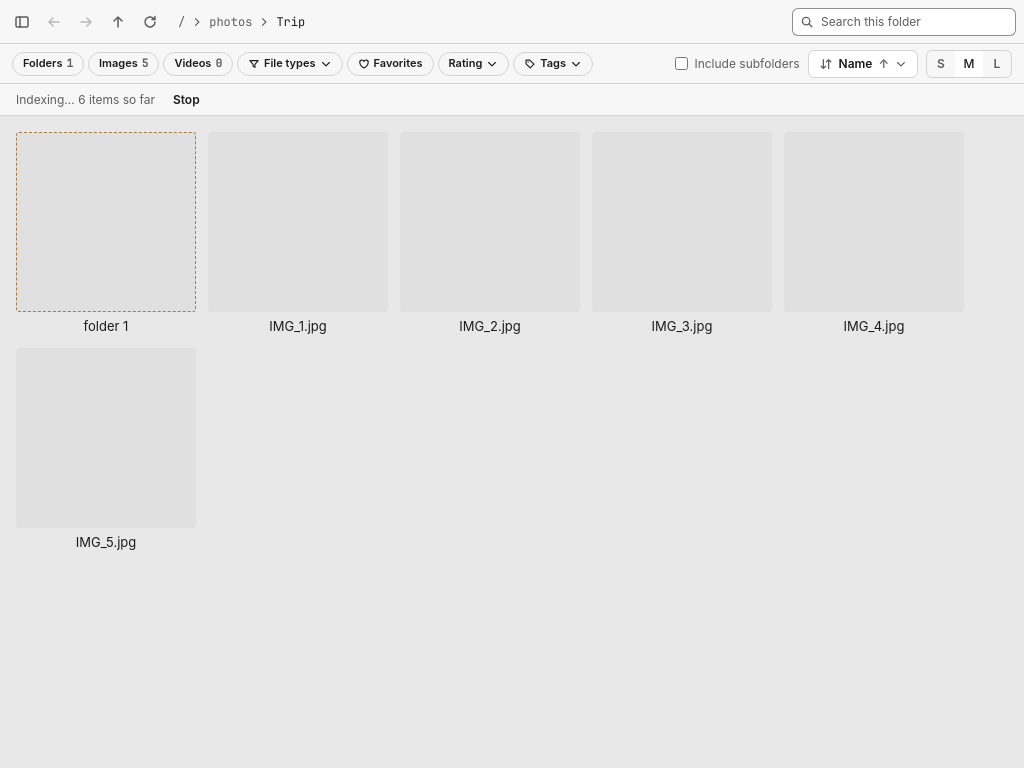
clipboard and delete › copies and pastes with descriptors, never id lists
Expected: the text "IMG_2.jpg" is shown, [459,318,521,334]
Click the cell "IMG_2.jpg" at (490, 240), box [400,132,580,348]
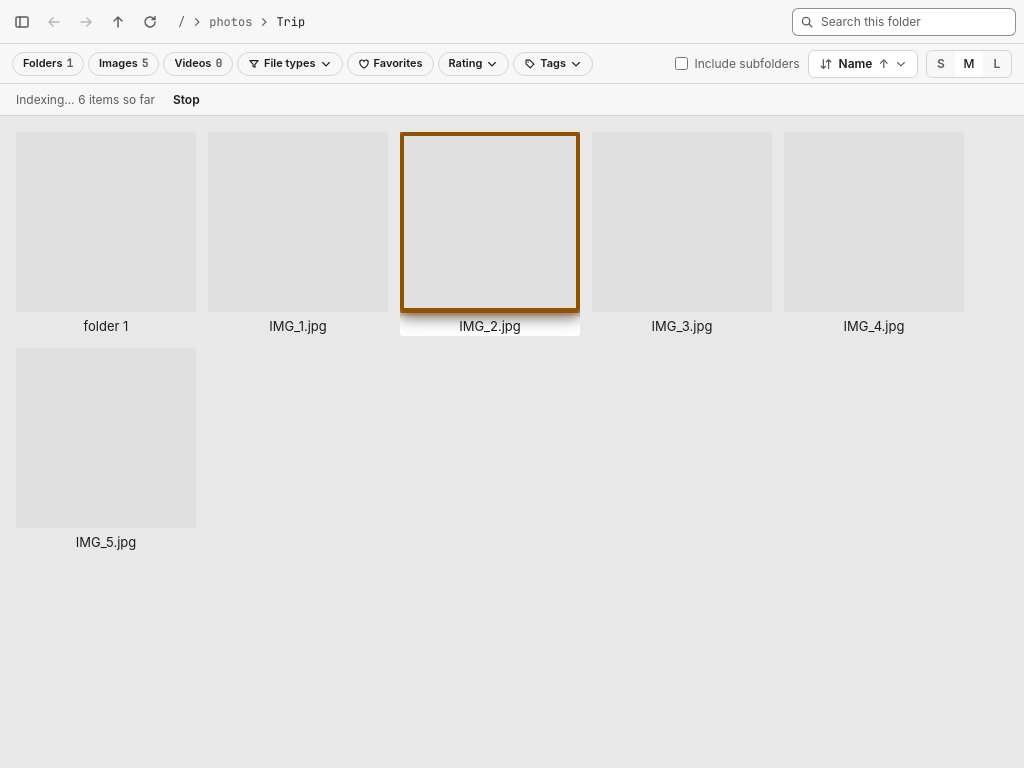
Type keys "{Control>}c{/Control}"
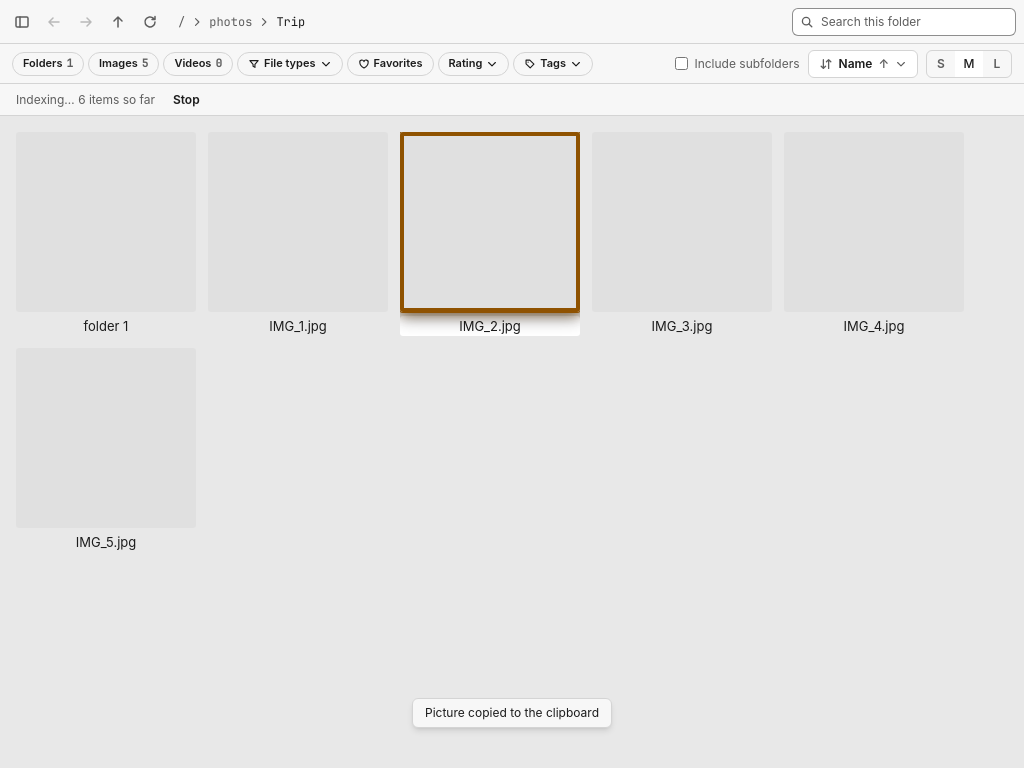
Type keys "{Control>}v{/Control}"
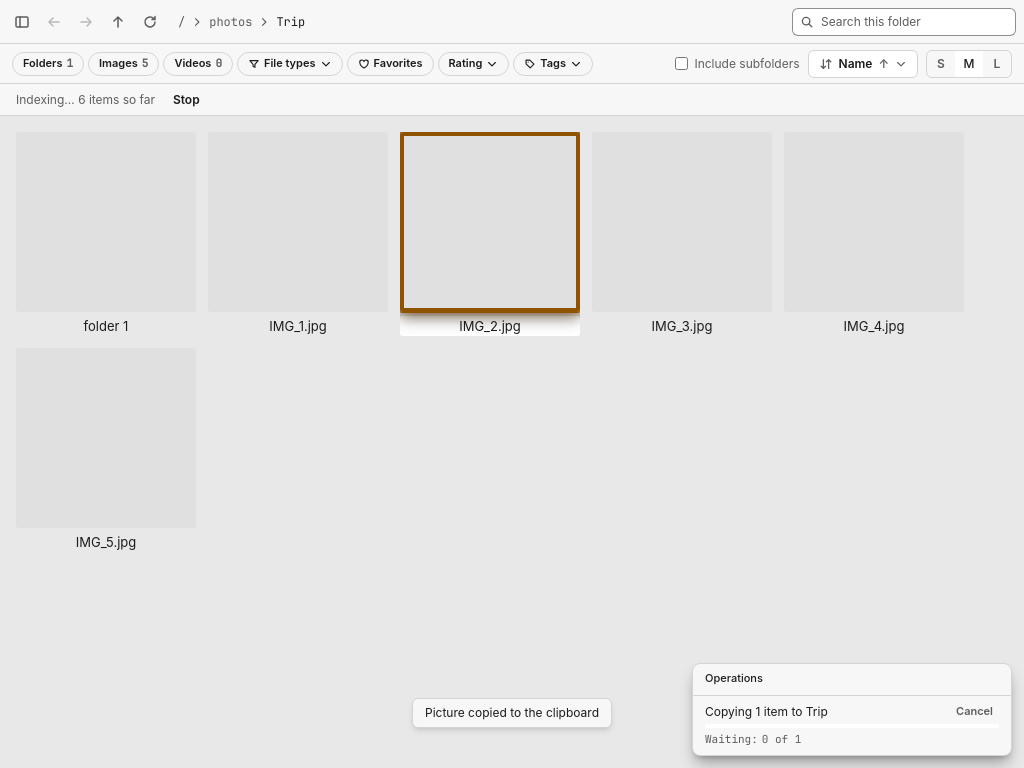
Now the text "Copying 1 item to Trip" is shown, box [705,704,828,719]
